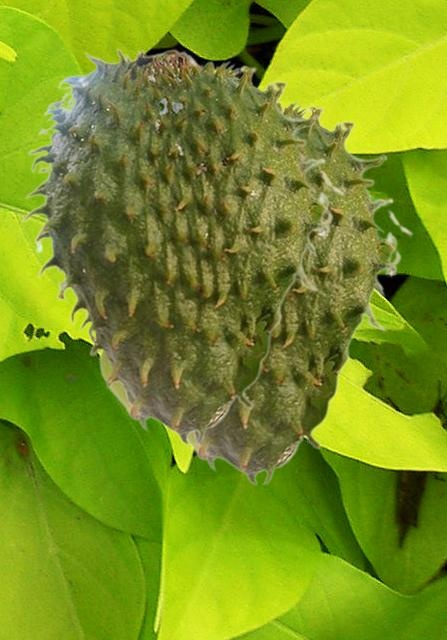guyabano: (21, 47, 345, 445), (162, 100, 413, 485)
